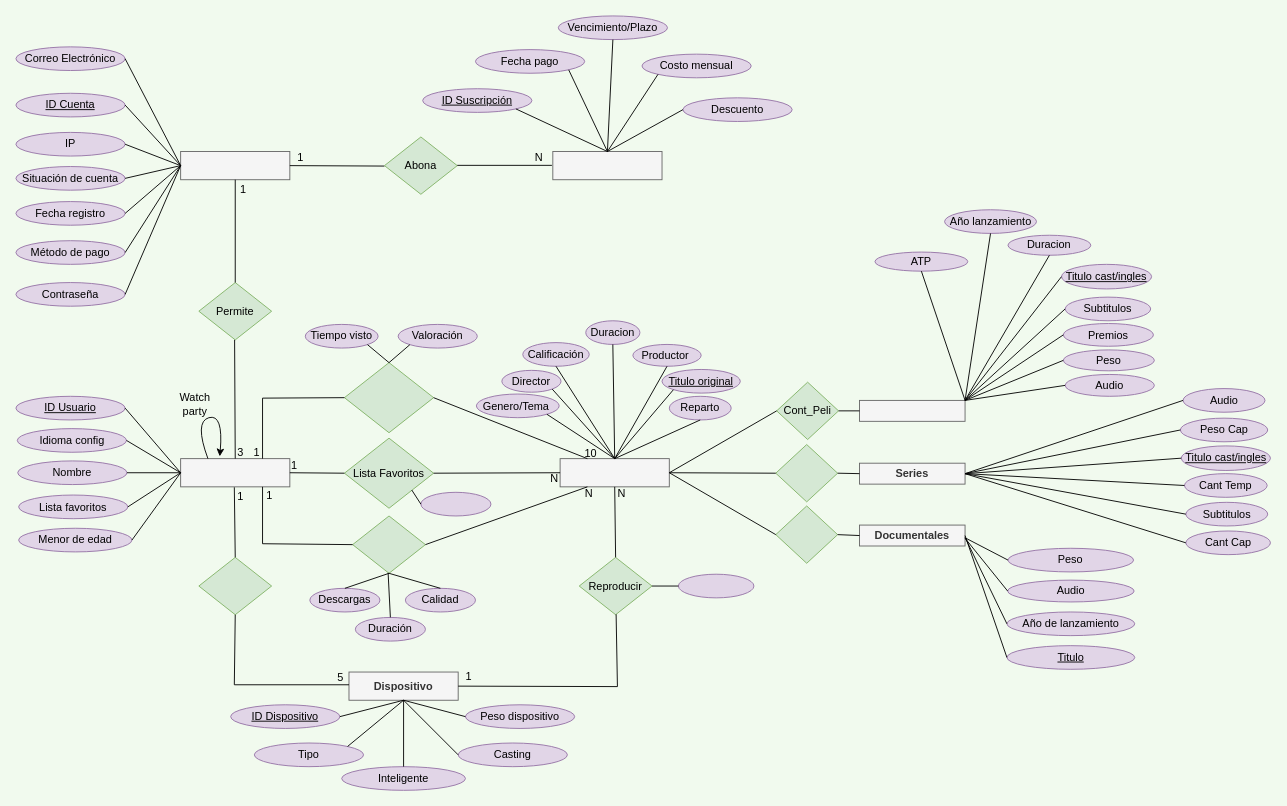
Image size: 1287x806. Some labels were removed from this diagram. The box of each missing label's shape, as (x1, y1, x2, y2) in pixels:
Asocia: (198, 556, 272, 615)
Cont_Docu: (775, 505, 838, 563)
Cont_Serie: (775, 444, 838, 502)
Contenido: (559, 458, 669, 487)
Cuenta: (180, 151, 290, 180)
Descargar: (352, 515, 425, 573)
Favoritos: (420, 491, 491, 516)
Historial Reproducción: (344, 362, 434, 433)
Peliculas: (859, 399, 965, 421)
Suscripción: (552, 151, 662, 180)
Usuario: (180, 458, 290, 487)
Velocidad: (677, 573, 754, 598)
